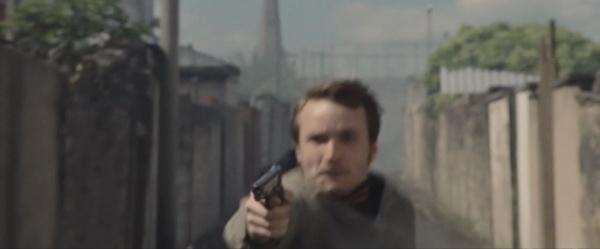Gun: (251, 165, 283, 210)
